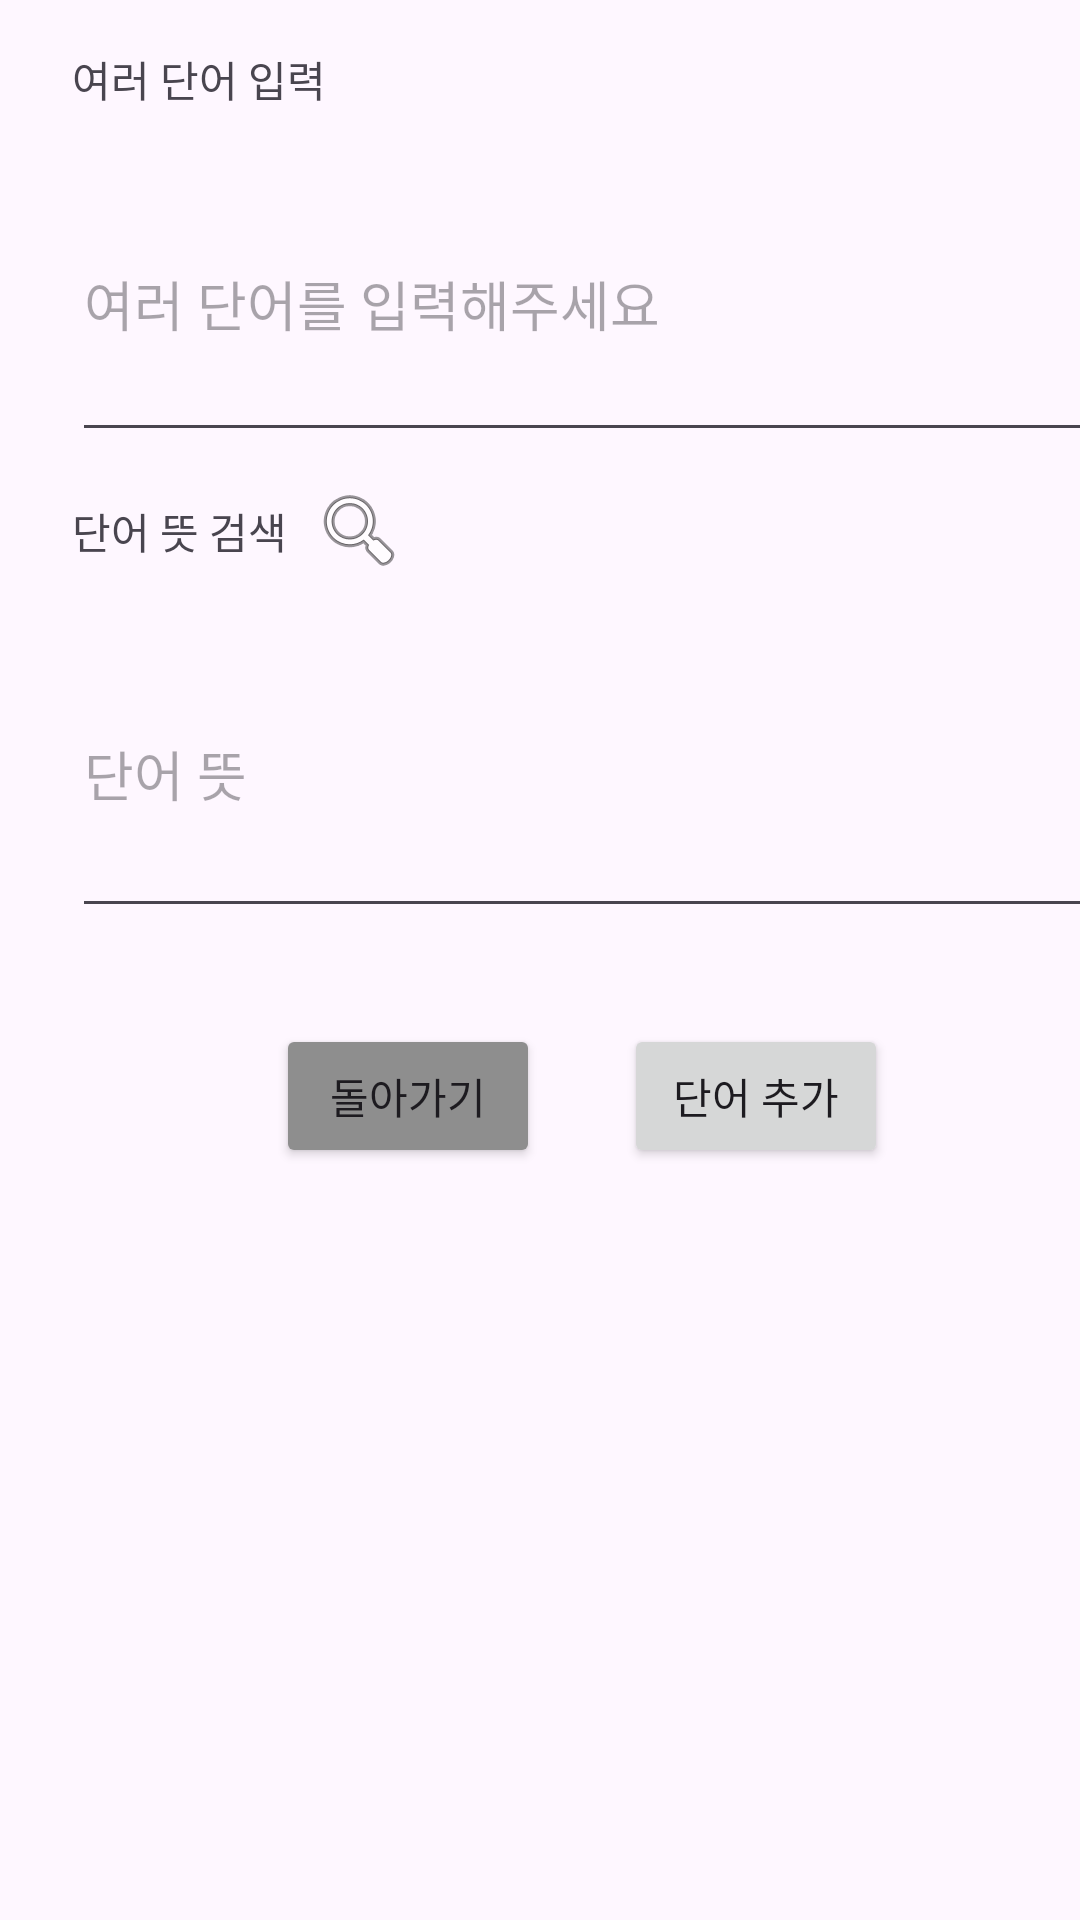

Named icons in this screenshot (1080x1920) and their centers, point (x, y):
search: point (359, 530)
